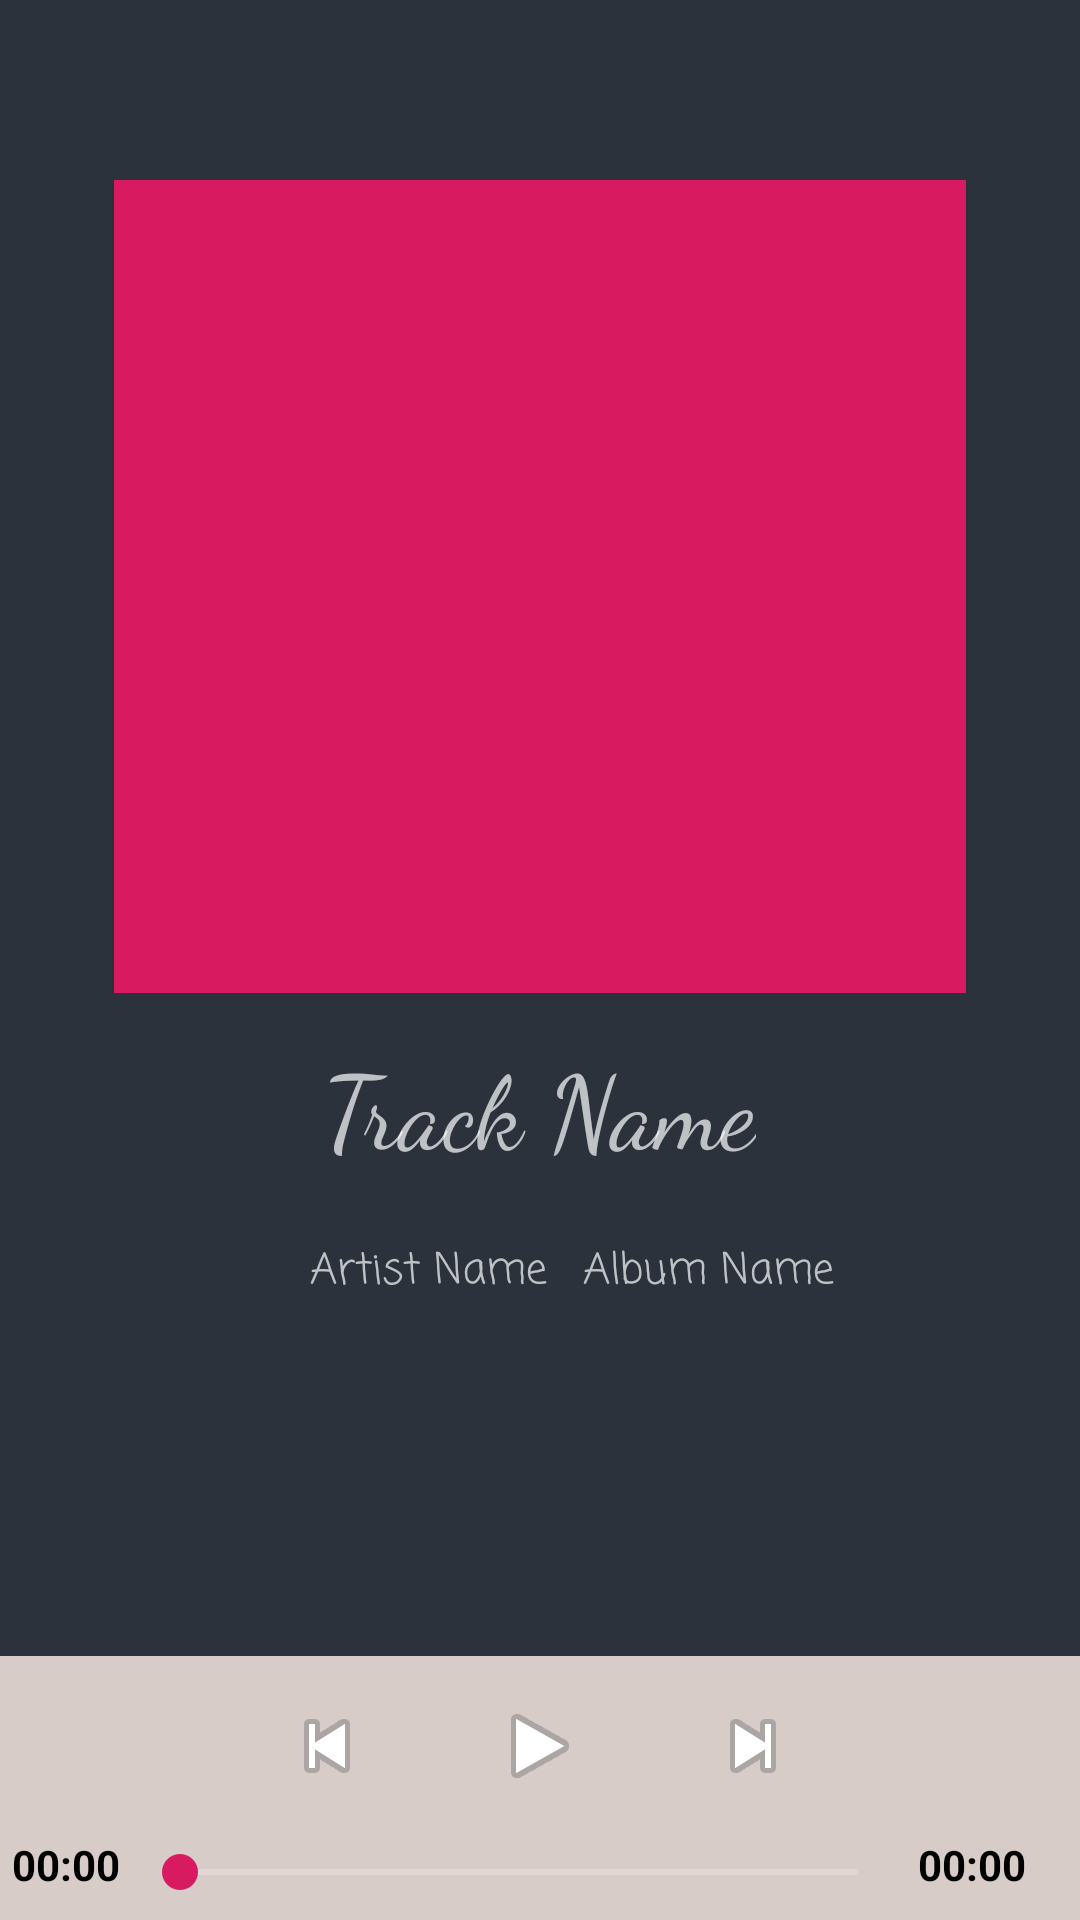

Screen size 1080w x 1920h. Icon name, then its center in pixels as point (x, y):
play arrow: point (540, 1746)
skip next: point (753, 1746)
skip previous: point (327, 1746)
